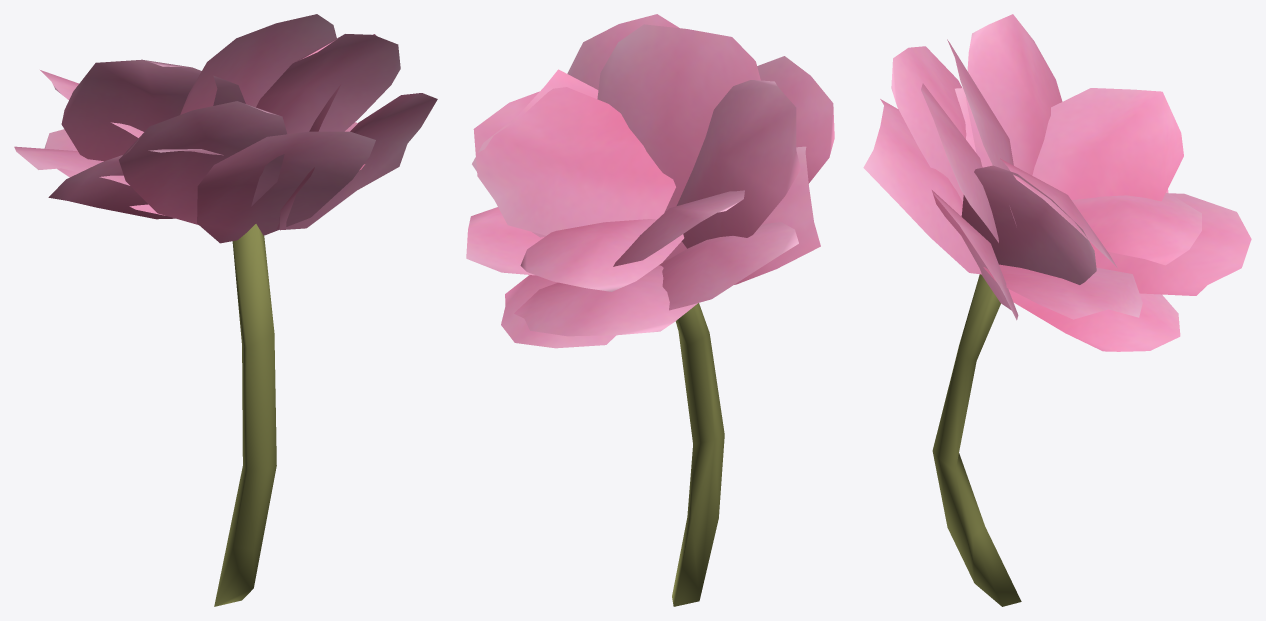
Rendered from pinkMediumSingle.fbx.
3 views of the same model, side by side, from view 1: azimuth 30°, elevation 25°; view 2: azimuth 150°, elevation 25°; view 3: azimuth 270°, elevation 25° (orthographic). The views are drawn at different scales.
Parts seen in each view (by area): view 1: Cylinder.002, Cylinder.000; view 2: Cylinder.002, Cylinder.000; view 3: Cylinder.002, Cylinder.000.
Boxes of the visible parts, box(x1,y1,x2,y2) form: Cylinder.002: box(14, 14, 437, 243); Cylinder.000: box(214, 224, 276, 606); Cylinder.002: box(466, 14, 834, 348); Cylinder.000: box(672, 303, 724, 606); Cylinder.002: box(863, 14, 1251, 351); Cylinder.000: box(932, 274, 1021, 606).
Bounding box in the file's own units: 46.35 × 72.71 × 46.21.
